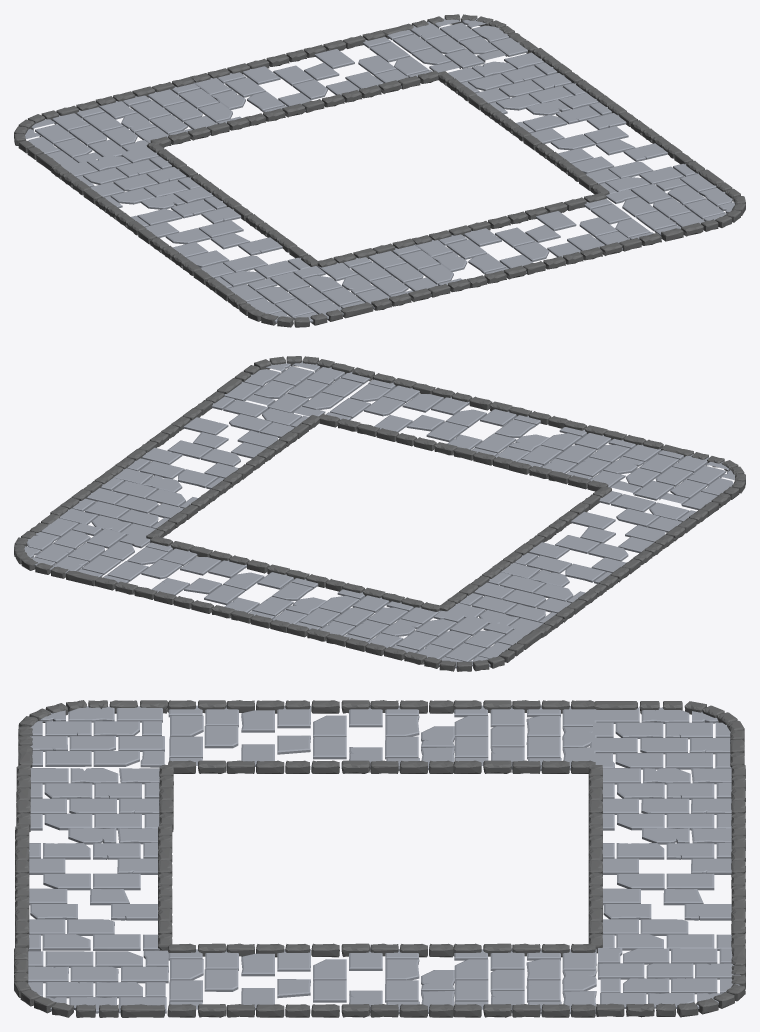
Rendered from SM_sidewalk_template_03.fbx.
3 views of the same model, one above another, from view 1: azimuth 30°, elevation 25°; view 2: azimuth 150°, elevation 25°; view 3: azimuth 270°, elevation 25° (orthographic). The views are drawn at different scales.
Visible parts, largest first — view 1: sidewalk_template_03; view 2: sidewalk_template_03; view 3: sidewalk_template_03.
Boxes of the visible parts, x1=… form: sidewalk_template_03: x1=14, y1=14, x2=745, y2=327; sidewalk_template_03: x1=14, y1=356, x2=745, y2=671; sidewalk_template_03: x1=14, y1=700, x2=745, y2=1017.
Size of the model in its own units: 1529 by 22.01 by 1524.
